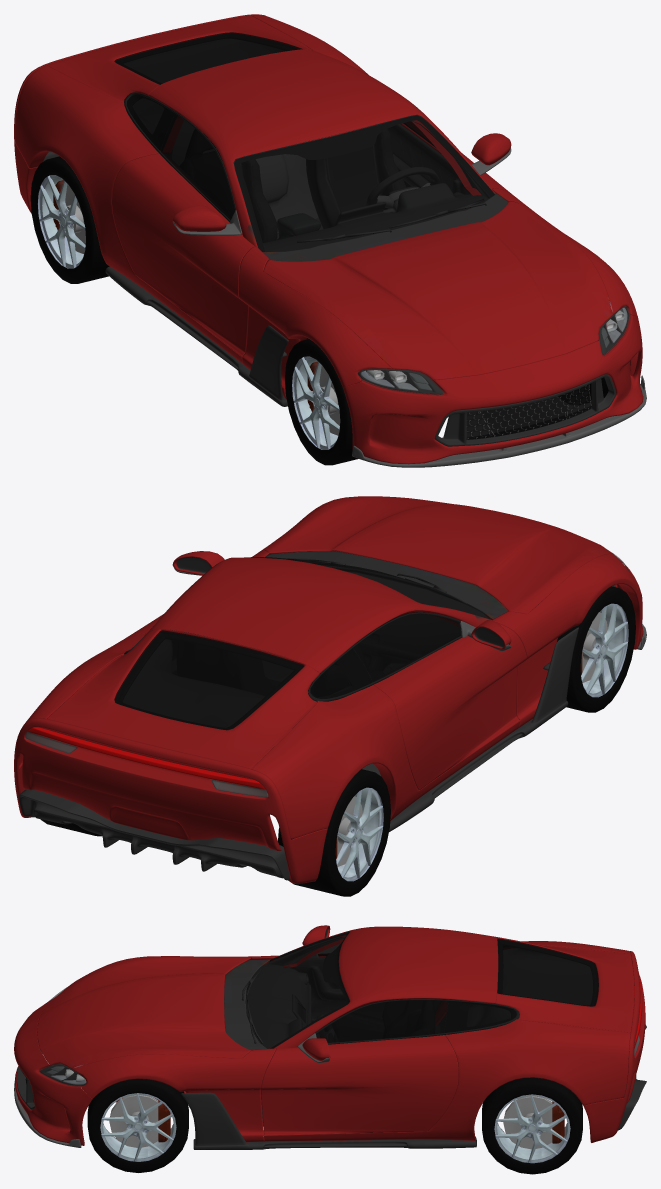
File: brute.glb
The picture shows the model from 3 angles, top to bottom: view 1: azimuth 30°, elevation 25°; view 2: azimuth 150°, elevation 25°; view 3: azimuth 270°, elevation 25°; orthographic projection. The views are drawn at different scales.
Visible parts, largest first — view 1: body, hood, glass-windshield, front-bumper, door.r, side-fender.r, interior-roof-rear-trim, trunk, seat-back-01, glass-rear, dashboard-base, side-fender-aero.r (+22 smaller); view 2: body, rear-bumper, hood, trunk, door.r, glass-rear, side-fender.r, rear-diffusor-v2, interior-roof-rear-trim, dashboard-base, window-front.r, side-fender-aero.r (+14 smaller); view 3: body, hood, door.l, side-fender.l, glass-windshield, trunk, glass-rear, interior-roof-rear-trim, front-bumper, side-fender-aero.l, dashboard-base, window-front.l (+20 smaller).
Part boxes in pixels (left/top/right/bottom): body: left=15, top=15, right=495, bottom=363; hood: left=263, top=201, right=613, bottom=380; glass-windshield: left=234, top=115, right=494, bottom=251; front-bumper: left=343, top=314, right=643, bottom=464; door.r: left=111, top=153, right=254, bottom=356; side-fender.r: left=238, top=246, right=391, bottom=398; interior-roof-rear-trim: left=124, top=39, right=490, bottom=232; trunk: left=47, top=15, right=313, bottom=105; seat-back-01: left=306, top=129, right=406, bottom=228; glass-rear: left=114, top=32, right=302, bottom=84; dashboard-base: left=263, top=183, right=488, bottom=251; side-fender-aero.r: left=105, top=266, right=288, bottom=406; body: left=19, top=557, right=520, bottom=839; rear-bumper: left=14, top=718, right=327, bottom=883; hood: left=263, top=496, right=612, bottom=613; trunk: left=47, top=628, right=319, bottom=768; door.r: left=374, top=622, right=527, bottom=789; glass-rear: left=114, top=630, right=304, bottom=730; side-fender.r: left=492, top=553, right=637, bottom=728; rear-diffusor-v2: left=18, top=789, right=290, bottom=880; interior-roof-rear-trim: left=123, top=640, right=351, bottom=727; dashboard-base: left=347, top=571, right=488, bottom=671; window-front.r: left=353, top=612, right=461, bottom=681; side-fender-aero.r: left=389, top=627, right=578, bottom=831; body: left=116, top=926, right=630, bottom=1141; hood: left=37, top=956, right=250, bottom=1068; door.l: left=260, top=1035, right=458, bottom=1135; side-fender.l: left=72, top=1048, right=275, bottom=1142; glass-windshield: left=245, top=932, right=349, bottom=1048; trunk: left=495, top=937, right=634, bottom=1032; glass-rear: left=497, top=938, right=598, bottom=1006; interior-roof-rear-trim: left=267, top=936, right=592, bottom=1053; front-bumper: left=14, top=1001, right=92, bottom=1145; side-fender-aero.l: left=181, top=1092, right=476, bottom=1149; dashboard-base: left=246, top=964, right=311, bottom=1081; window-front.l: left=316, top=998, right=448, bottom=1042.
Bounding box in the file's own units: 2.27 × 1.35 × 4.73.
Materials: 17 (5 with a texture image).
